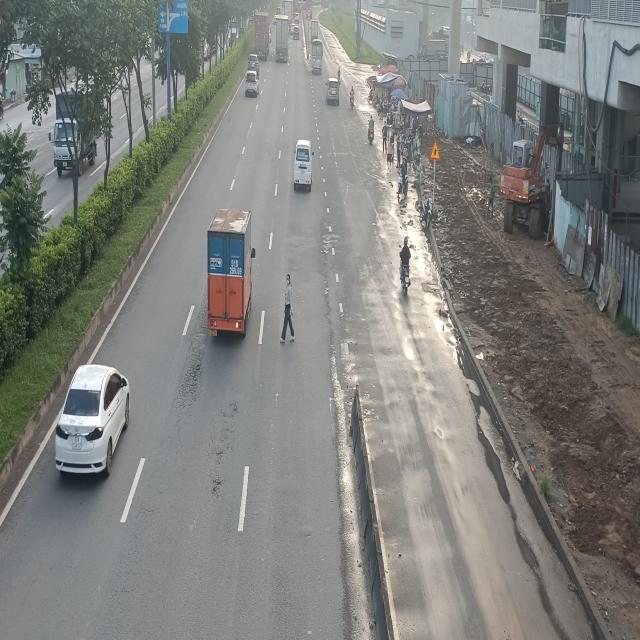car: (54, 365, 130, 480)
truck: (204, 211, 254, 341), (311, 38, 324, 75)
van: (292, 137, 314, 190)
